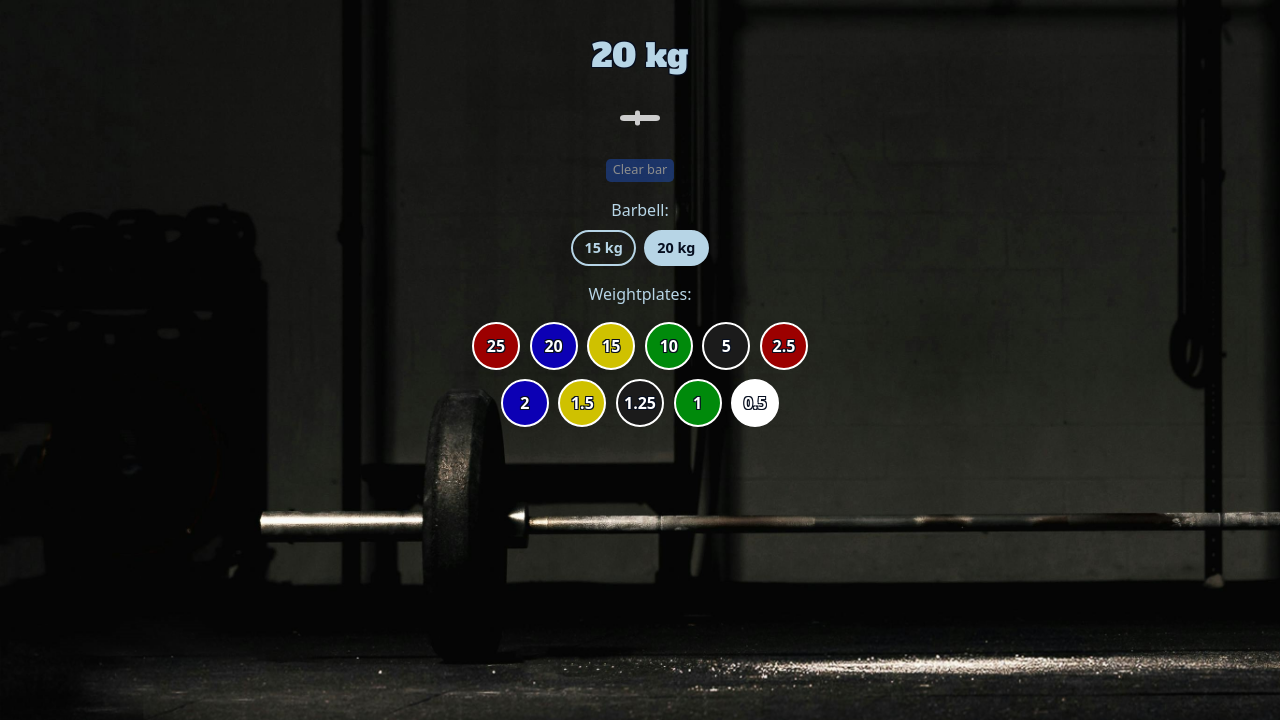
Test: FreeCalc › adds a plate to each side when a palette plate is clicked
The width and height of the screenshot is (1280, 720).
Step 1. Click the button named "add 20 kg plate" → (554, 346), box [530,322,578,370]
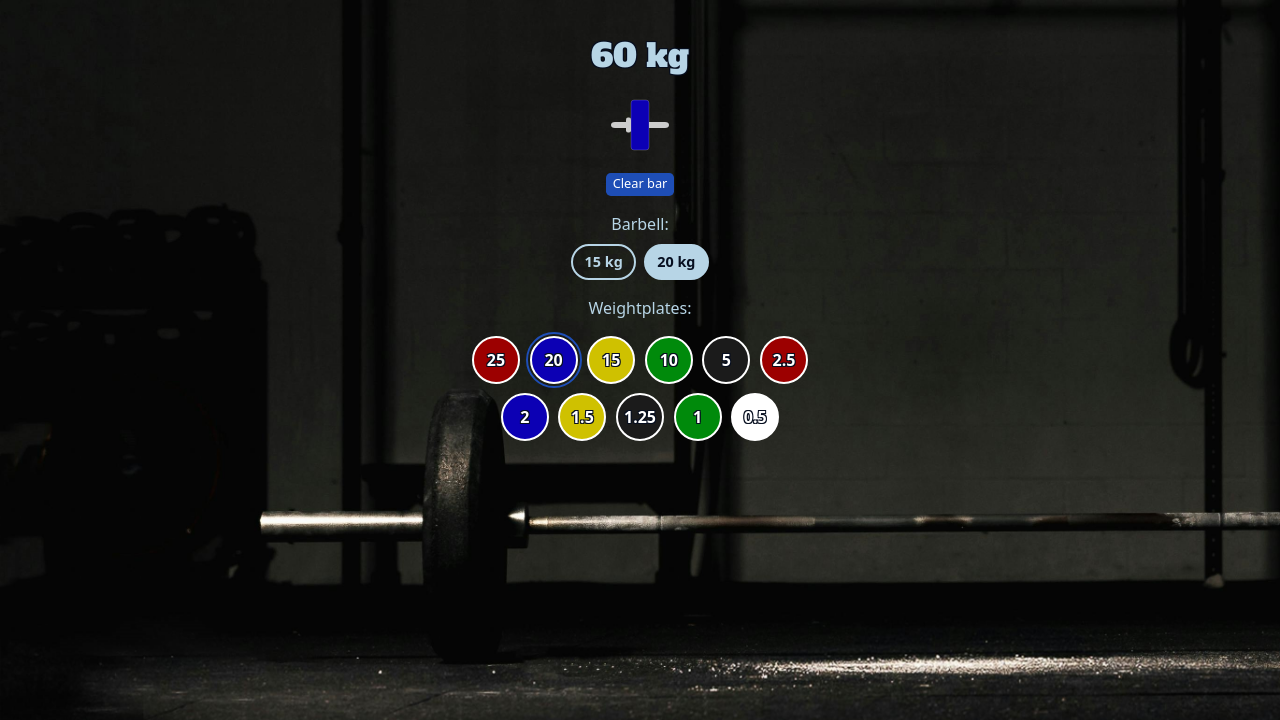
Expected: the text "60 kg" is shown, [591,34,689,78]
